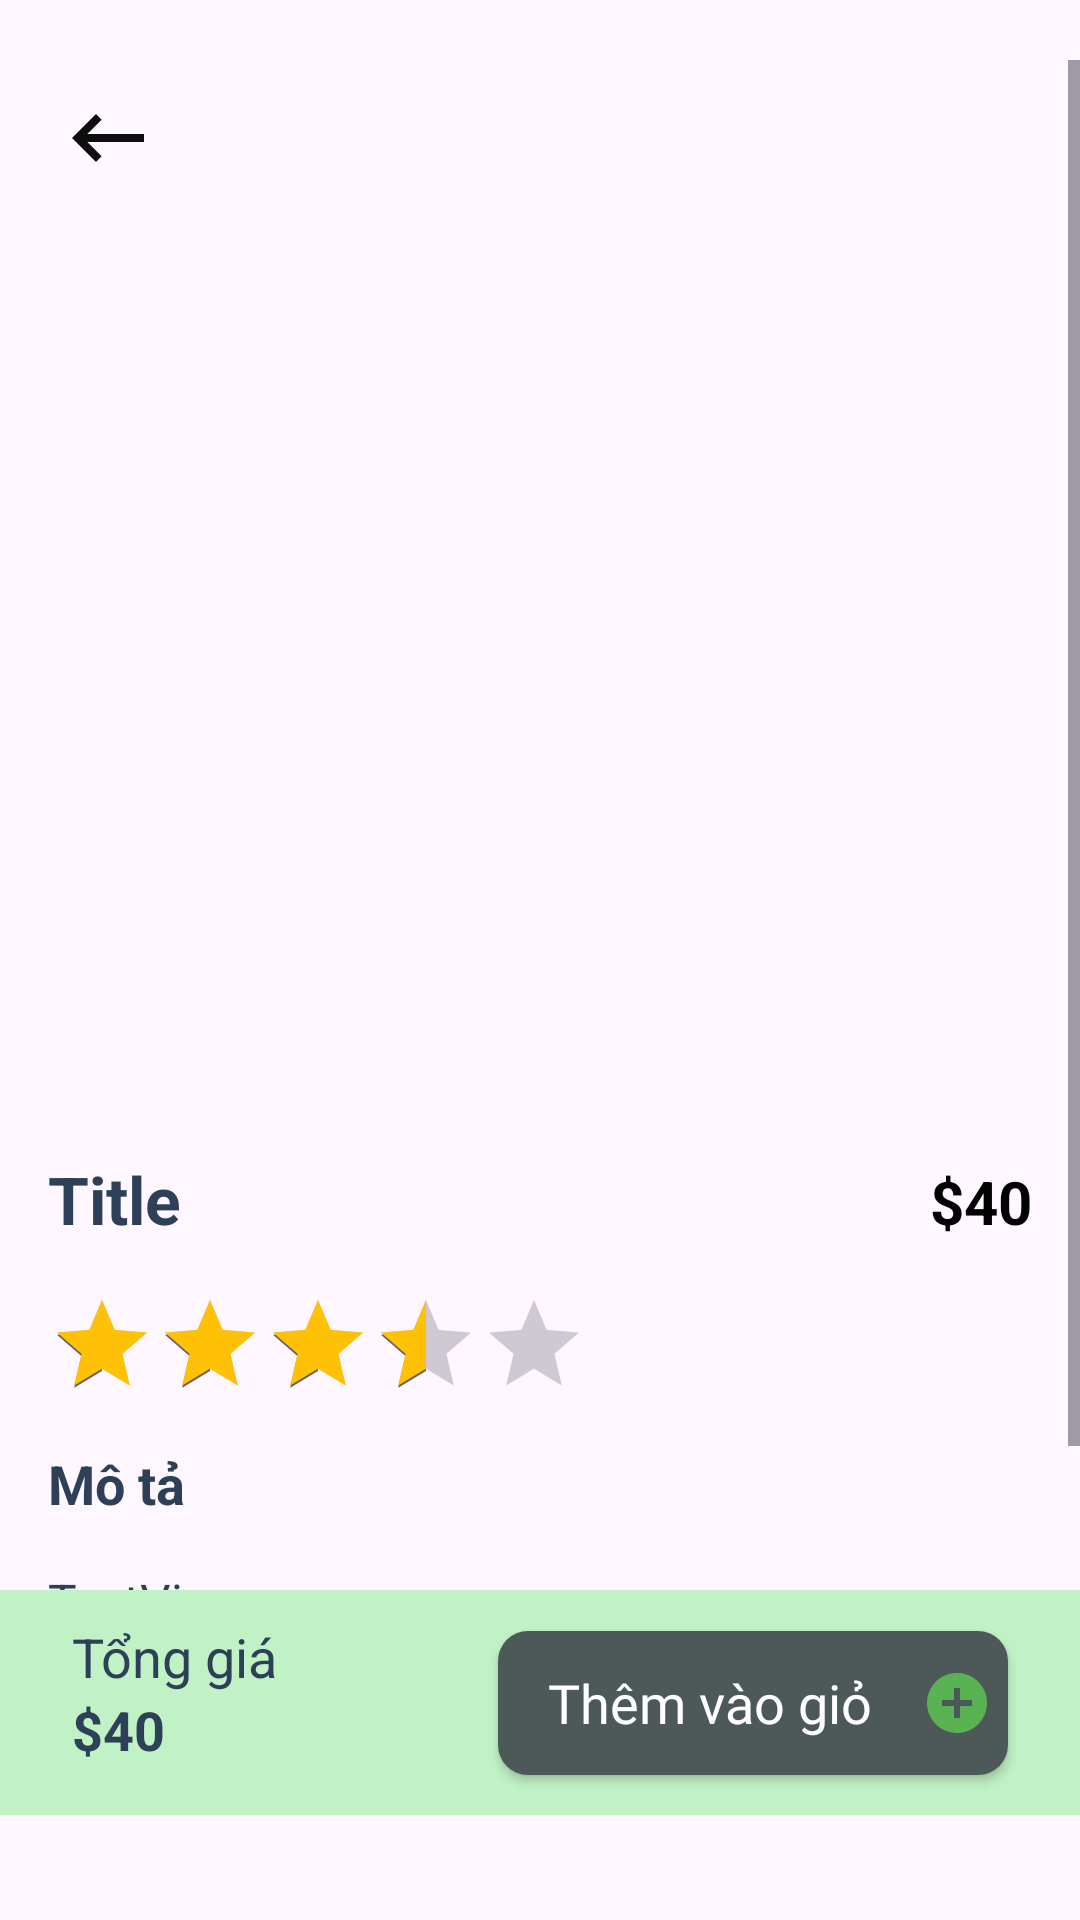

Locate icon controls on the screen. Image size 1080×1920, boxes as detection(x1, y1, x2, y2).
keyboard backspace: detection(72, 114, 144, 162)
